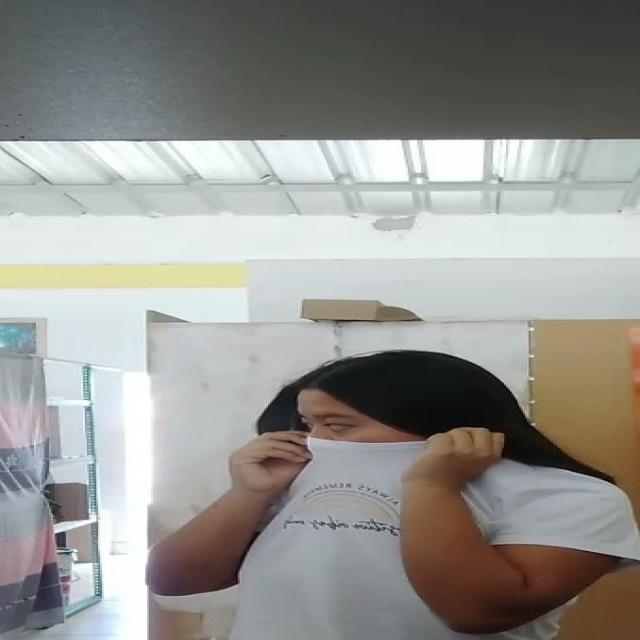8_ropa_rostro: (235, 426, 509, 527)
